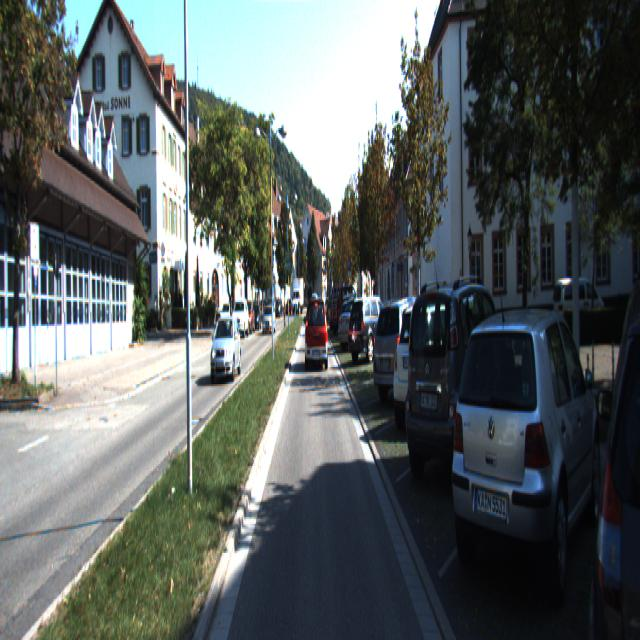Car: (440, 302, 603, 638), (400, 282, 520, 504), (596, 266, 640, 638), (389, 301, 474, 445), (370, 300, 448, 408), (347, 296, 398, 364), (210, 315, 242, 383), (338, 298, 378, 349), (306, 300, 328, 372), (330, 286, 361, 334), (232, 300, 249, 340), (263, 306, 276, 334), (220, 304, 232, 333)
